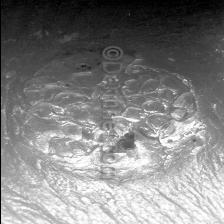Toxin: (32, 42, 196, 180), (116, 126, 142, 159)
